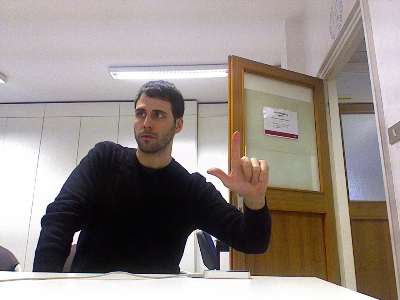枪: (204, 129, 269, 198)
